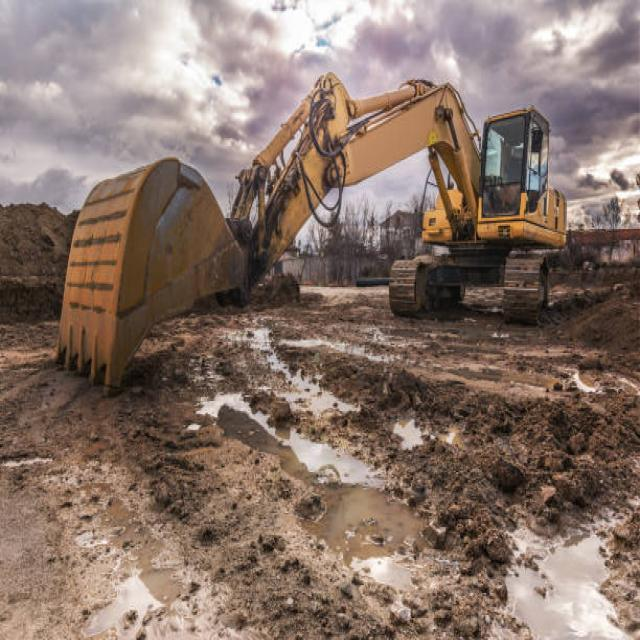C_E: (55, 72, 568, 399)
